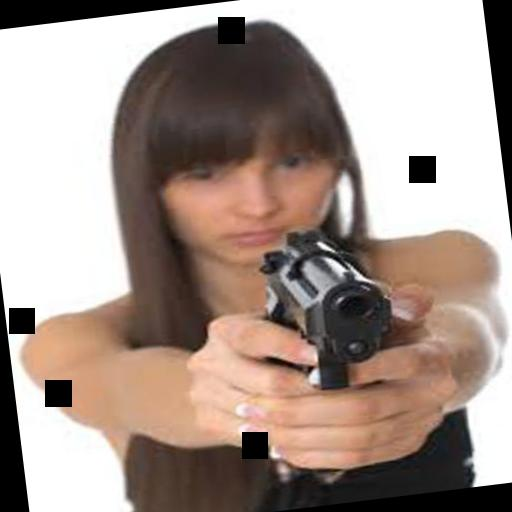Handgun: (244, 216, 418, 490)
